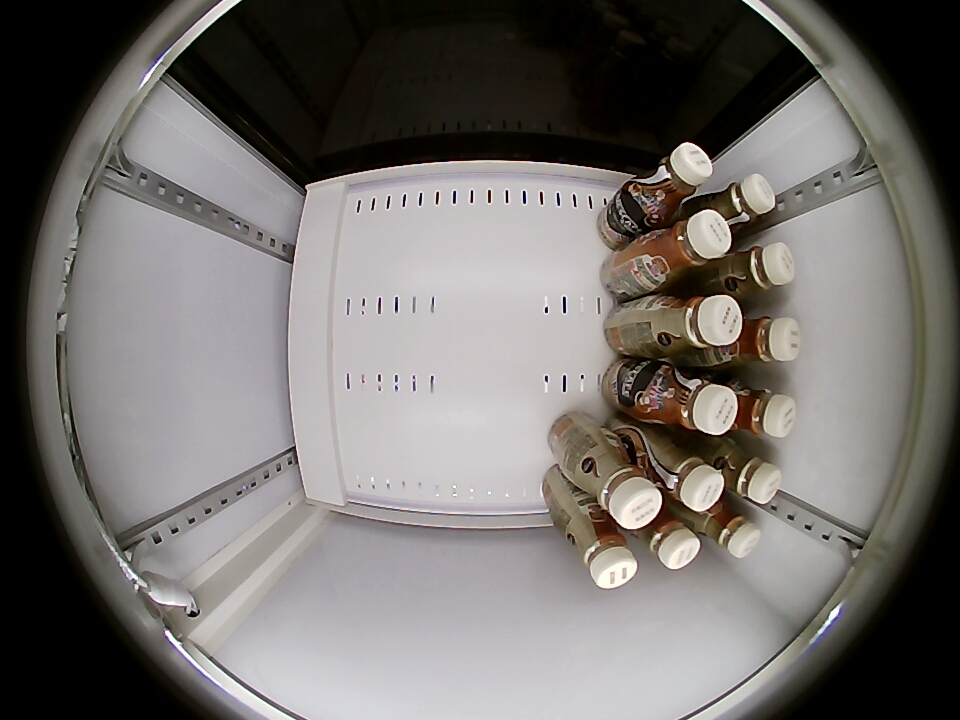kafei: (576, 440, 664, 530), (634, 360, 737, 435), (624, 142, 713, 227), (637, 210, 732, 288), (640, 433, 725, 513), (559, 508, 638, 589), (646, 293, 744, 356), (700, 174, 777, 240), (711, 315, 801, 368), (633, 500, 701, 570), (709, 440, 782, 505), (713, 243, 796, 298), (721, 379, 796, 438), (693, 498, 761, 558)
